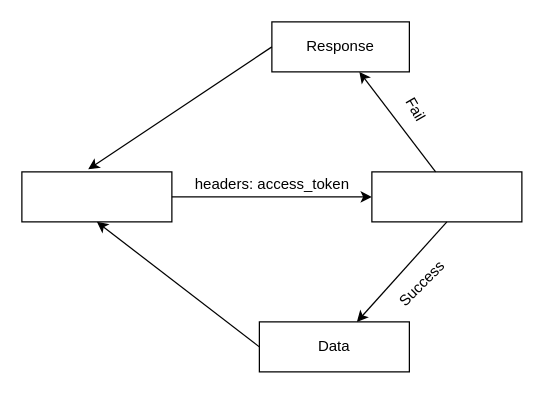
Some shapes in this 544 by 394 pixel diagram are drawn without their labels. The centre of each missing label's shape, as x and y in pixels:
"Server" goes at point 446,196.
"User/Admin" goes at point 96,196.
